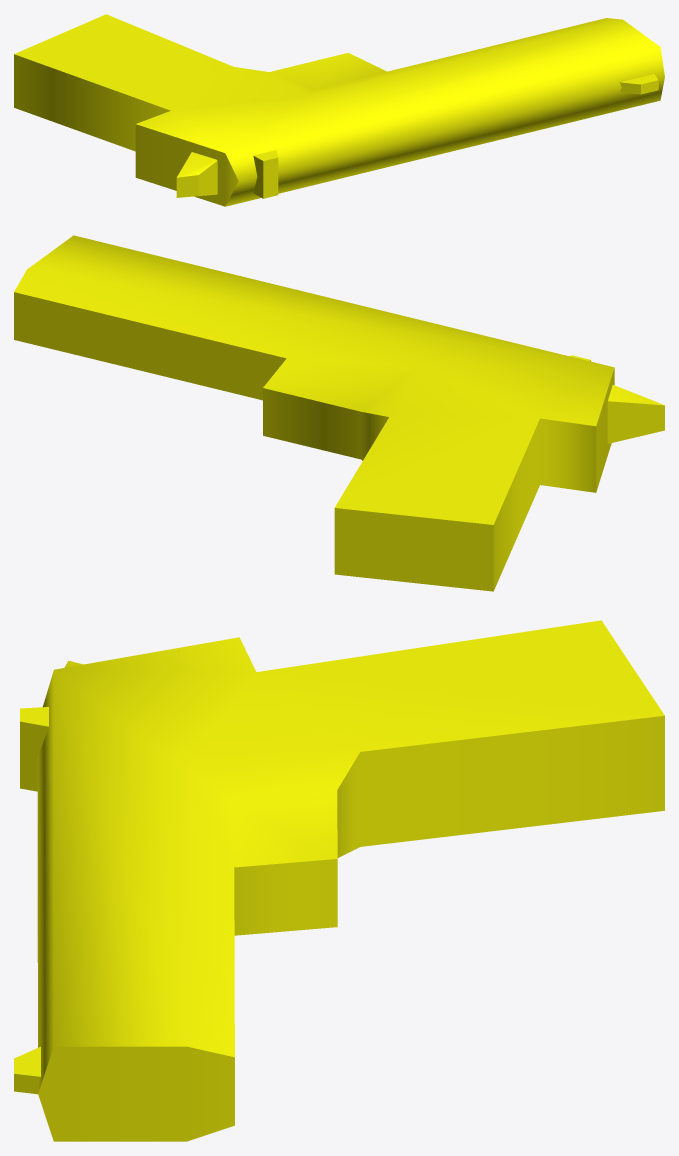
The model's file is weapon_colt1911.glb.
3 renders of one model, top to bottom at view 1: azimuth 30°, elevation 25°; view 2: azimuth 150°, elevation 25°; view 3: azimuth 270°, elevation 25°, orthographic. The views are drawn at different scales.
Visible parts, largest first — view 1: weapon_colt1911; view 2: weapon_colt1911; view 3: weapon_colt1911.
Part boxes in pixels (x1,y1,x2,y2): weapon_colt1911: [14, 14, 664, 206]; weapon_colt1911: [14, 235, 664, 591]; weapon_colt1911: [14, 620, 664, 1141].
Size of the model in its own units: 0.5612 by 0.0584 by 0.3622.
1 material, 1 textured.
